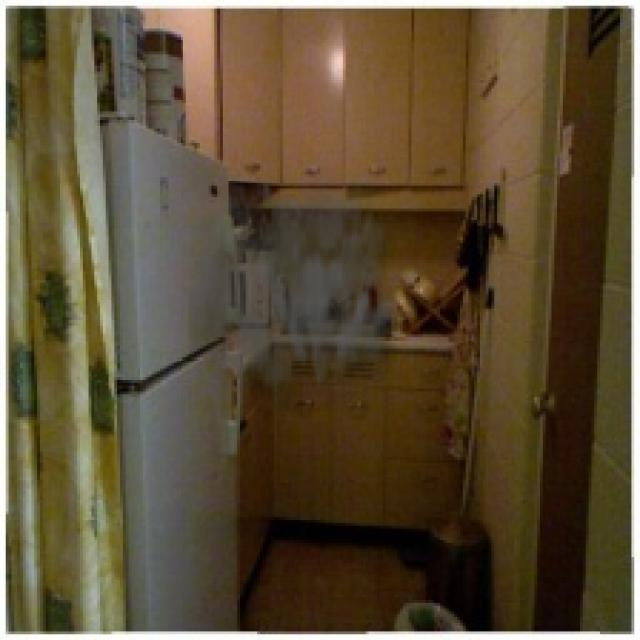Smoke: (188, 148, 406, 412)
